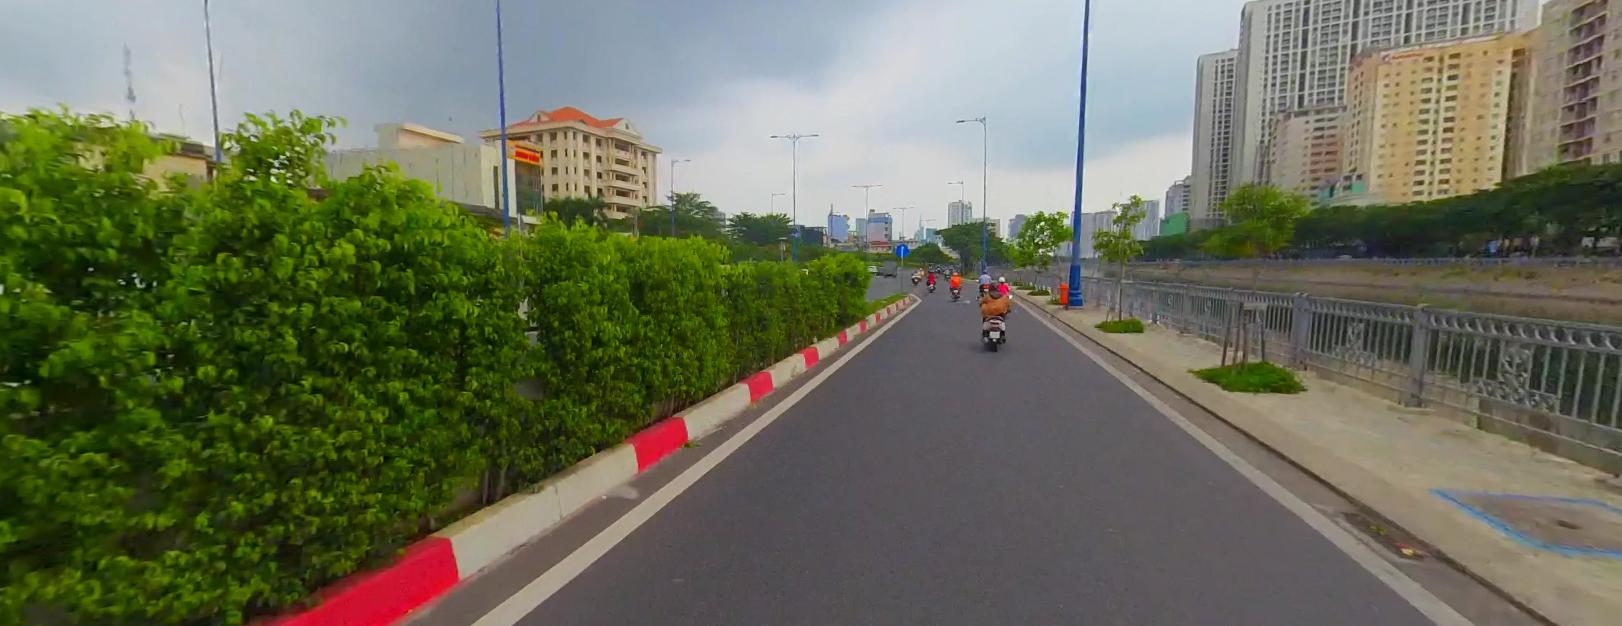Hieu lenh: (895, 242, 909, 256)
